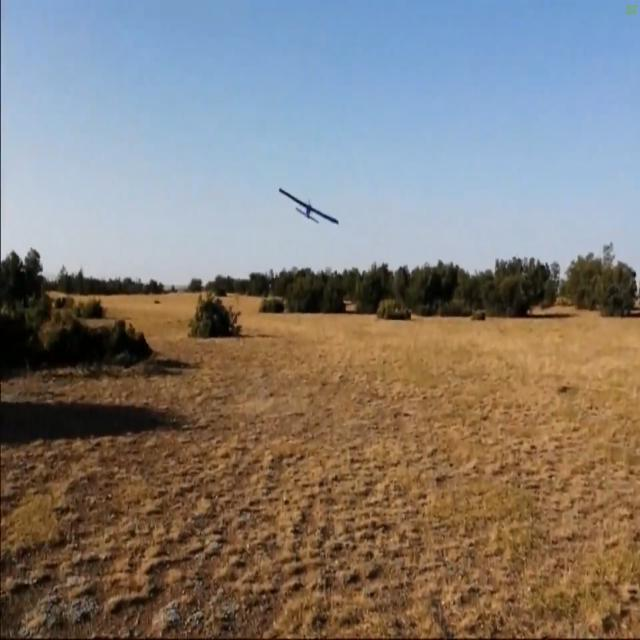UAV: (248, 182, 336, 246)
